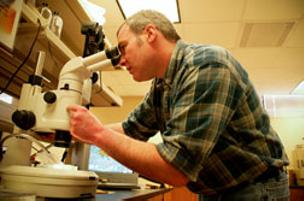person: (69, 11, 290, 200)
